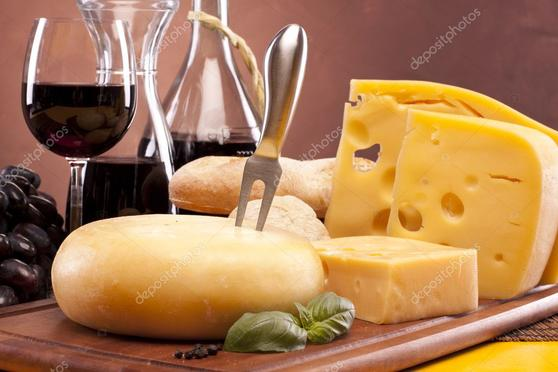cheese: (392, 109, 556, 304)
